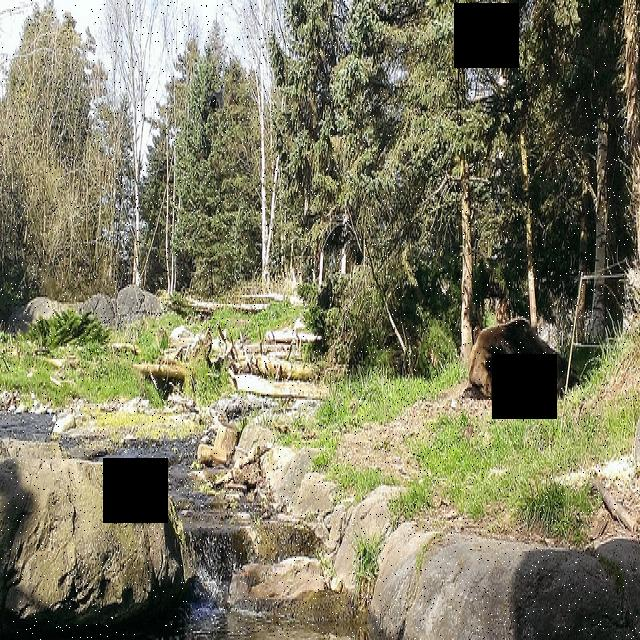Bear: (464, 314, 573, 401)
